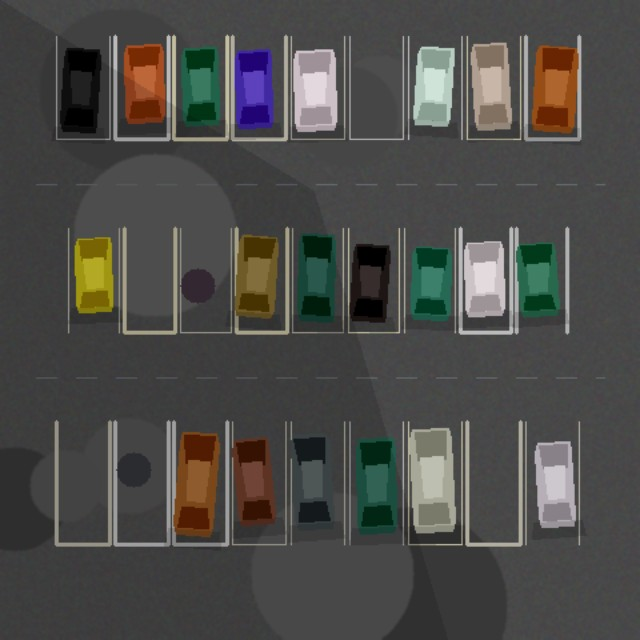space-empty: (56, 421, 109, 544), (115, 421, 168, 544), (467, 421, 520, 544), (349, 36, 403, 139), (124, 228, 175, 332), (180, 228, 231, 332)
space-occupied: (173, 421, 227, 544), (349, 421, 403, 544), (525, 421, 579, 544), (232, 421, 285, 544), (291, 421, 344, 544), (408, 421, 461, 544), (173, 36, 227, 139), (525, 36, 579, 139), (56, 36, 109, 139), (115, 36, 168, 139), (232, 36, 285, 139), (291, 36, 344, 139), (408, 36, 461, 139), (467, 36, 520, 139), (68, 228, 119, 332), (236, 228, 287, 332), (292, 228, 343, 332), (348, 228, 399, 332), (404, 228, 455, 332), (460, 228, 511, 332), (516, 228, 567, 332)
